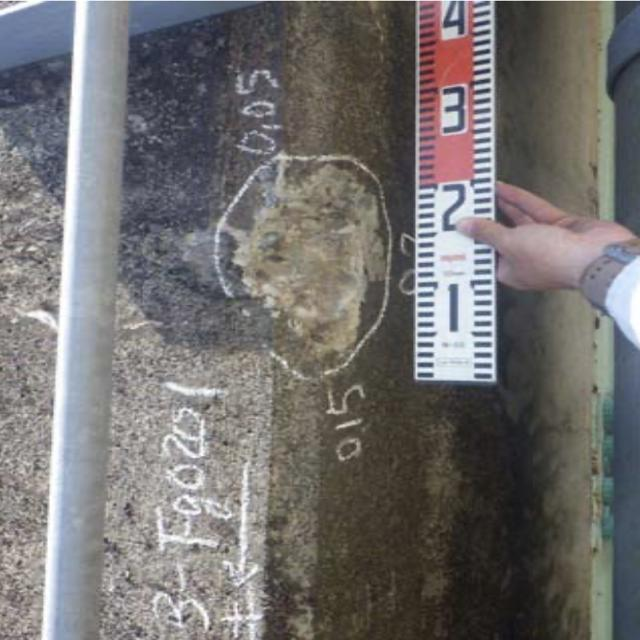spalling: (233, 146, 391, 370)
